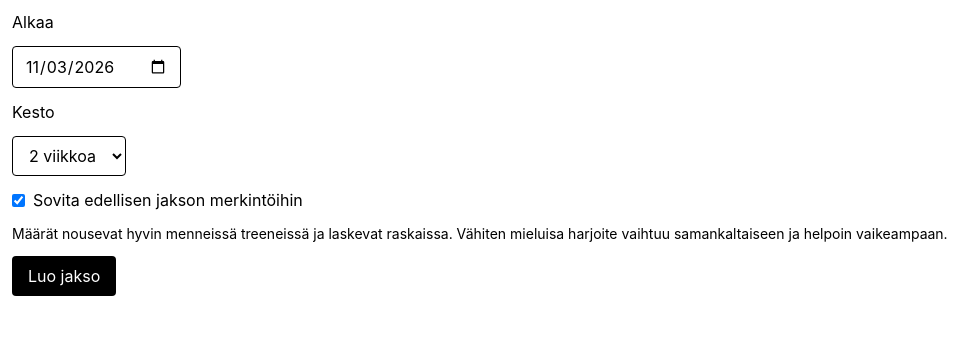
Test case: PeriodForm › keeps the choice unchecked after a refusal, so the next try is the plain copy
The image size is (964, 349).
Click the checkbox at (18,200), box [12,194,25,206]
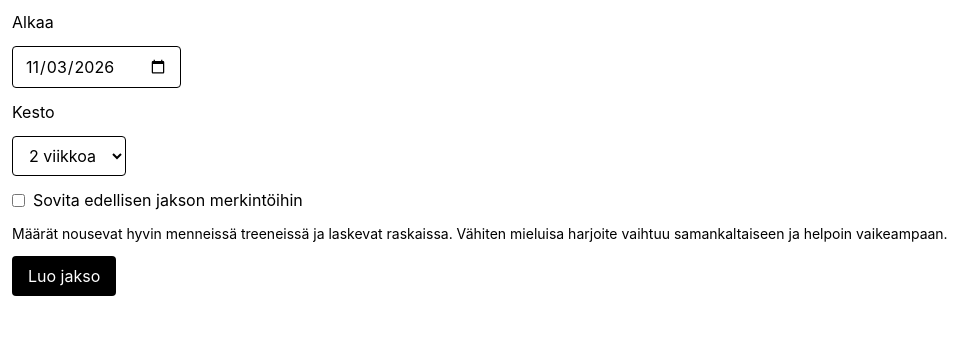
Click the button "Luo jakso" at (64,276), box [12,256,116,296]
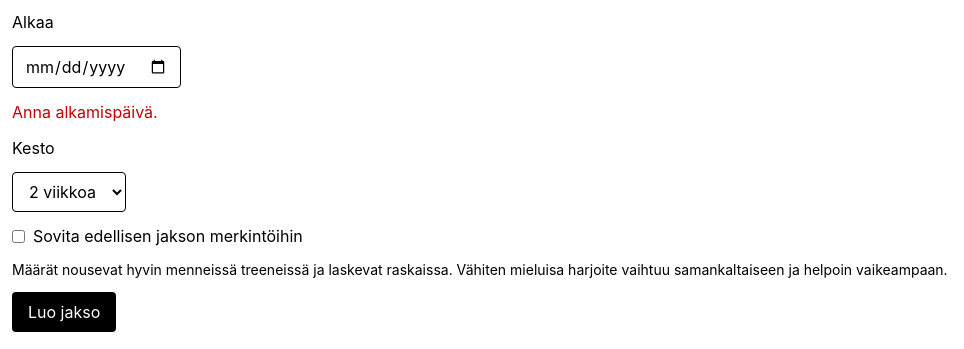
Expected: the checkbox is not checked, [12,230,25,242]
Expected: the message reads "Anna alkamispäivä.", [12,102,158,122]
